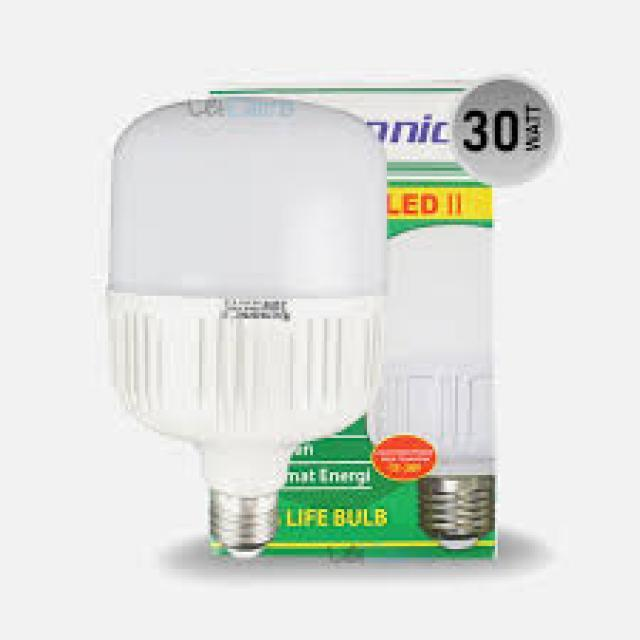light_bulb: (96, 87, 396, 566)
